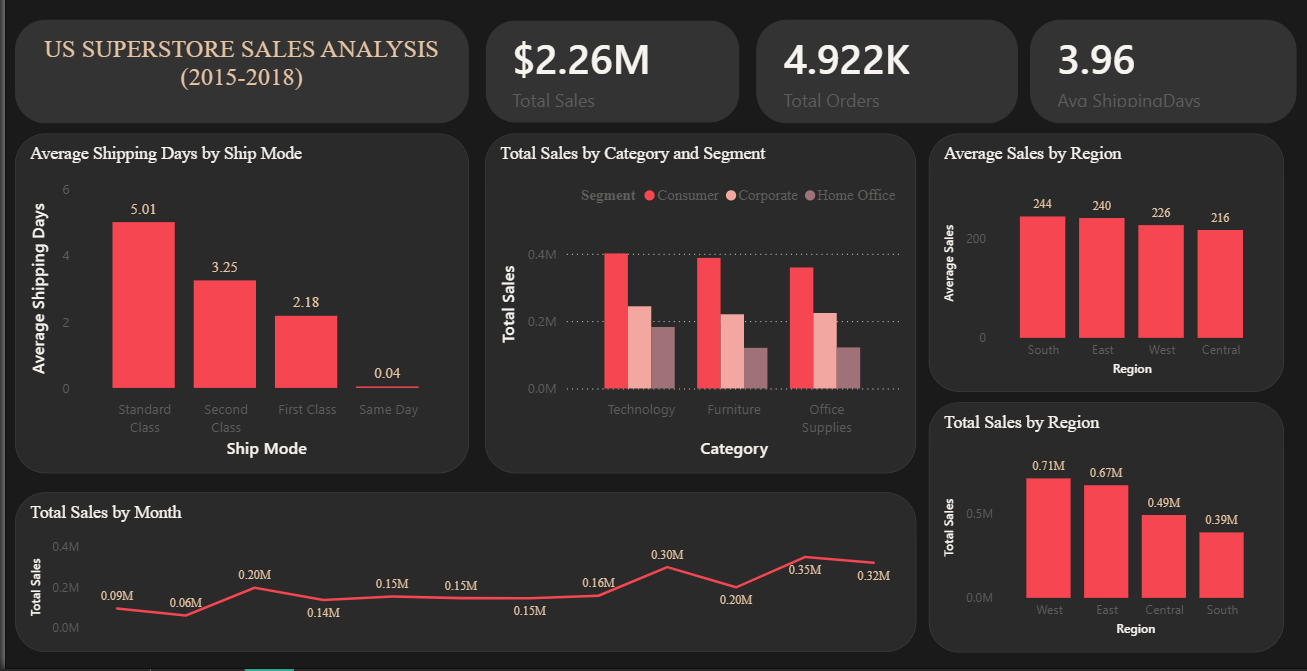

Layout of this report page (visuals, bound fields, positions):
{"tool":"powerbi","page":{"name":"Page 1","canvas":[1280,720],"ordinal":0},"visuals":[{"type":"cardVisual","fields":{"Data":["Sum(train.Sales)"]},"box":[471.2,82.2,250.3,101.8],"z":0},{"type":"cardVisual","fields":{"Data":["Count(train.Order ID)"]},"box":[737.4,82.2,256.4,101.8],"z":1},{"type":"cardVisual","fields":{"Data":["Avg(train.ShippingDays)"]},"box":[1006.1,82.2,261.4,101.8],"z":2},{"type":"clusteredColumnChart","fields":{"Category":["train.Ship Mode"],"Y":["Avg(train.ShippingDays)"]},"box":[9.8,193.9,445.4,333.7],"z":3},{"type":"lineChart","fields":{"Y":["Sum(train.Sales)"],"Category":["train.Order Date.Variation.Date Hierarchy.Month"]},"box":[9.8,546,884.7,157.1],"z":4},{"type":"clusteredColumnChart","fields":{"Category":["train.Category"],"Series":["train.Segment"],"Y":["Sum(train.Sales)"]},"box":[471.2,193.9,423.3,333.7],"z":5},{"type":"clusteredColumnChart","fields":{"Y":["Sum(train.Sales)"],"Category":["train.Region"]},"box":[906.8,457.7,348.5,245.4],"z":6},{"type":"clusteredColumnChart","fields":{"Category":["train.Region"],"Y":["Avg(train.Sales)"]},"box":[906.8,193.9,348.5,254],"z":7},{"type":"textbox","box":[9.8,82.2,445.4,101.8],"z":8}]}

Visuals, with their boxes on the page's 1280x720 design canvas (x1, y1, x2, y2). These are canvas units, not pixel positions in the 1307x671 screenshot, which may show the page scaled, cropped or inside an application window:
cardVisual - Sum(train.Sales): {"left": 471, "top": 82, "right": 722, "bottom": 184}
cardVisual - Count(train.Order ID): {"left": 737, "top": 82, "right": 994, "bottom": 184}
cardVisual - Avg(train.ShippingDays): {"left": 1006, "top": 82, "right": 1268, "bottom": 184}
clusteredColumnChart - train.Ship Mode x Avg(train.ShippingDays): {"left": 10, "top": 194, "right": 455, "bottom": 528}
lineChart - Sum(train.Sales) x train.Order Date.Variation.Date Hierarchy.Month: {"left": 10, "top": 546, "right": 894, "bottom": 703}
clusteredColumnChart - train.Category x train.Segment: {"left": 471, "top": 194, "right": 894, "bottom": 528}
clusteredColumnChart - Sum(train.Sales) x train.Region: {"left": 907, "top": 458, "right": 1255, "bottom": 703}
clusteredColumnChart - train.Region x Avg(train.Sales): {"left": 907, "top": 194, "right": 1255, "bottom": 448}
textbox: {"left": 10, "top": 82, "right": 455, "bottom": 184}
